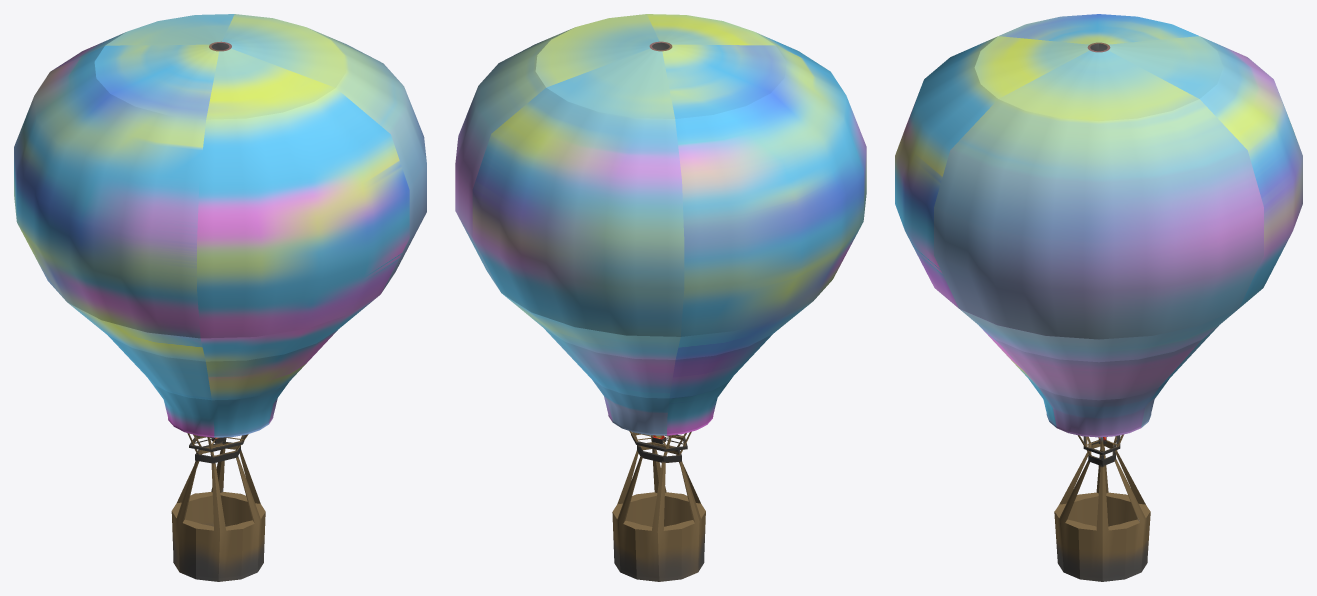
Rendered from final_bal.fbx.
The picture shows the model from 3 angles, left to right: view 1: azimuth 30°, elevation 25°; view 2: azimuth 150°, elevation 25°; view 3: azimuth 270°, elevation 25°; orthographic projection.
Visible parts, largest first — view 1: pCylinder2; view 2: pCylinder2; view 3: pCylinder2.
Boxes of the visible parts, x1,y1,x2,y2 form: pCylinder2: (14,14,426,581); pCylinder2: (455,14,866,581); pCylinder2: (895,14,1302,581).
Size of the model in its own units: 10531 by 14401 by 10331.
Materials: 1 (1 with a texture image).
